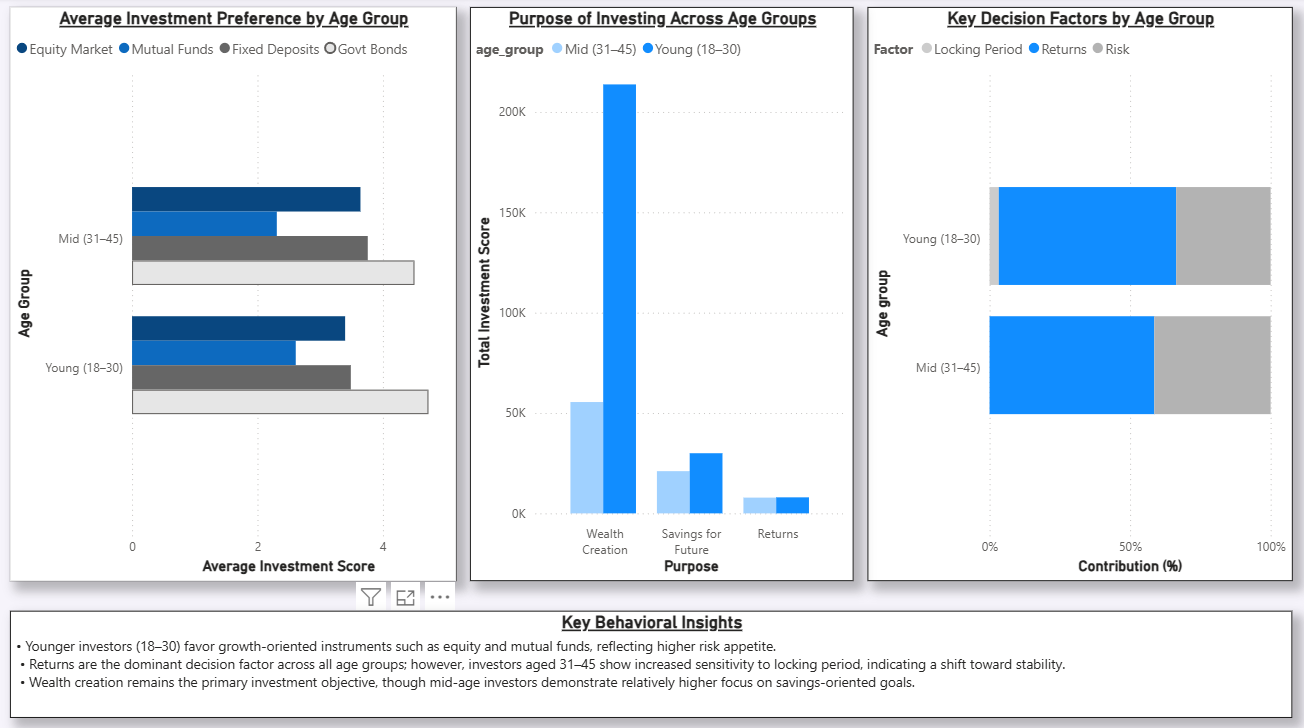

The dashboard page shown, as its layout file describes it:
{"tool":"powerbi","page":{"name":"Page 2","canvas":[1280,720],"ordinal":1},"visuals":[{"type":"clusteredBarChart","title":"Average Investment Preference by Age Group","fields":{"Category":["finance.age_group"],"Y":["Avg(finance.equity_market)","Avg(finance.mutual_funds)","Avg(finance.fixed_deposits)","Avg(finance.government_bonds)"]},"box":[9.8,9.8,436.6,561.3],"z":0},{"type":"hundredPercentStackedBarChart","title":"Key Decision Factors by Age Group","fields":{"Category":["finance.age_group"],"Series":["finance.factor"],"Y":["finance.Total Investors"]},"box":[848.6,9.8,415.8,561.3],"z":1000},{"type":"clusteredColumnChart","title":"Purpose of Investing Across Age Groups","fields":{"Category":["finance.purpose"],"Y":["Sum(finance.total_investment_score)"],"Series":["finance.age_group"]},"box":[459.8,9.8,375.4,561.3],"z":2000},{"type":"textbox","title":"Key Behavioral Insights","box":[9.8,600.4,1254.6,105.2],"z":3000}]}

Visuals, with their boxes in screenshot pixels (x1, y1, x2, y2), scaled from the page's 1280x720 canvas onto the 1304x728 screenshot:
"Average Investment Preference by Age Group" clusteredBarChart: (x1=10, y1=10, x2=455, y2=577)
"Key Decision Factors by Age Group" hundredPercentStackedBarChart: (x1=865, y1=10, x2=1288, y2=577)
"Purpose of Investing Across Age Groups" clusteredColumnChart: (x1=468, y1=10, x2=851, y2=577)
"Key Behavioral Insights" textbox: (x1=10, y1=607, x2=1288, y2=713)
